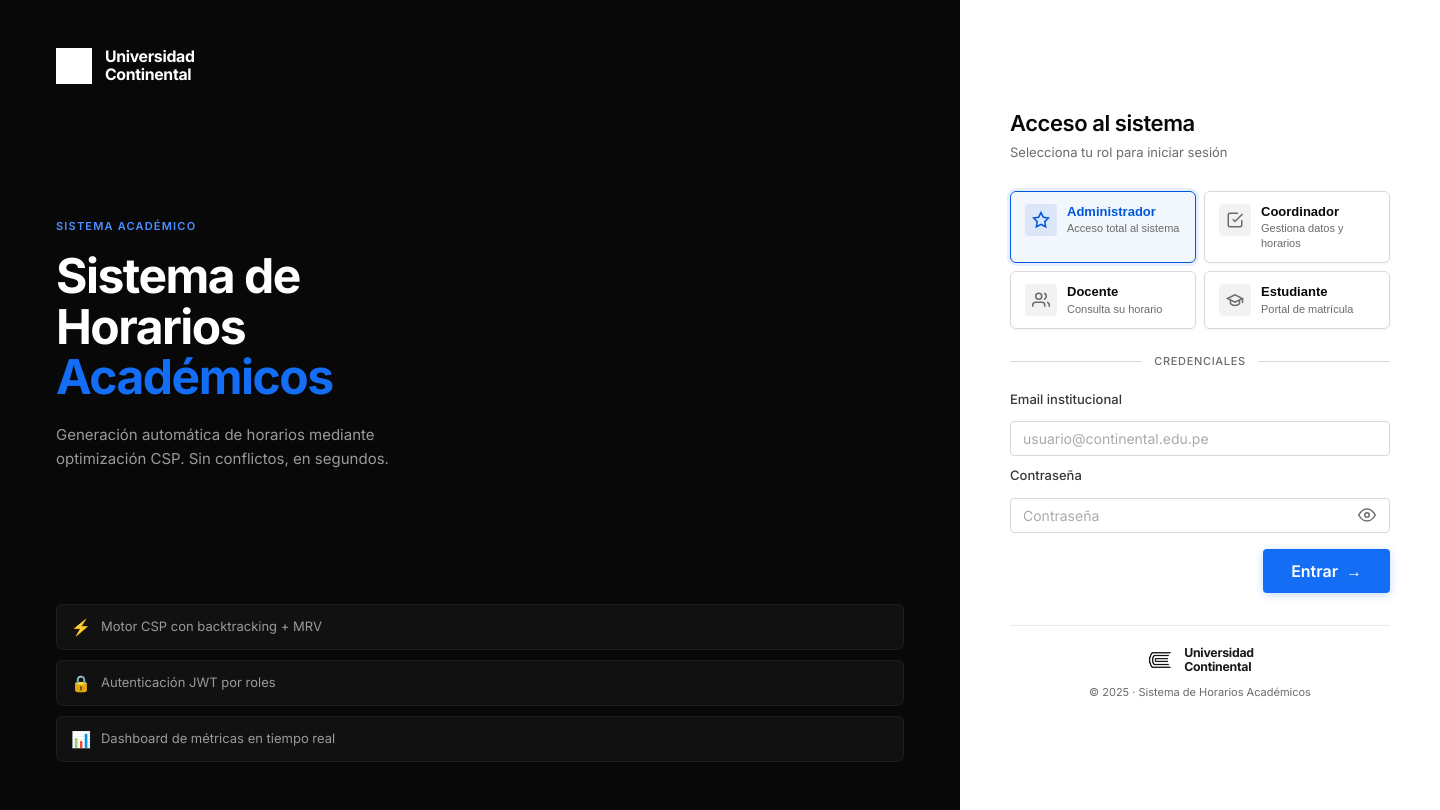
Scenario: LoginPage › shows a login error message when the request fails
In the field labelled "Email institucional": (1200, 438) [1010,421,1390,456], type "bad@uc.cl"
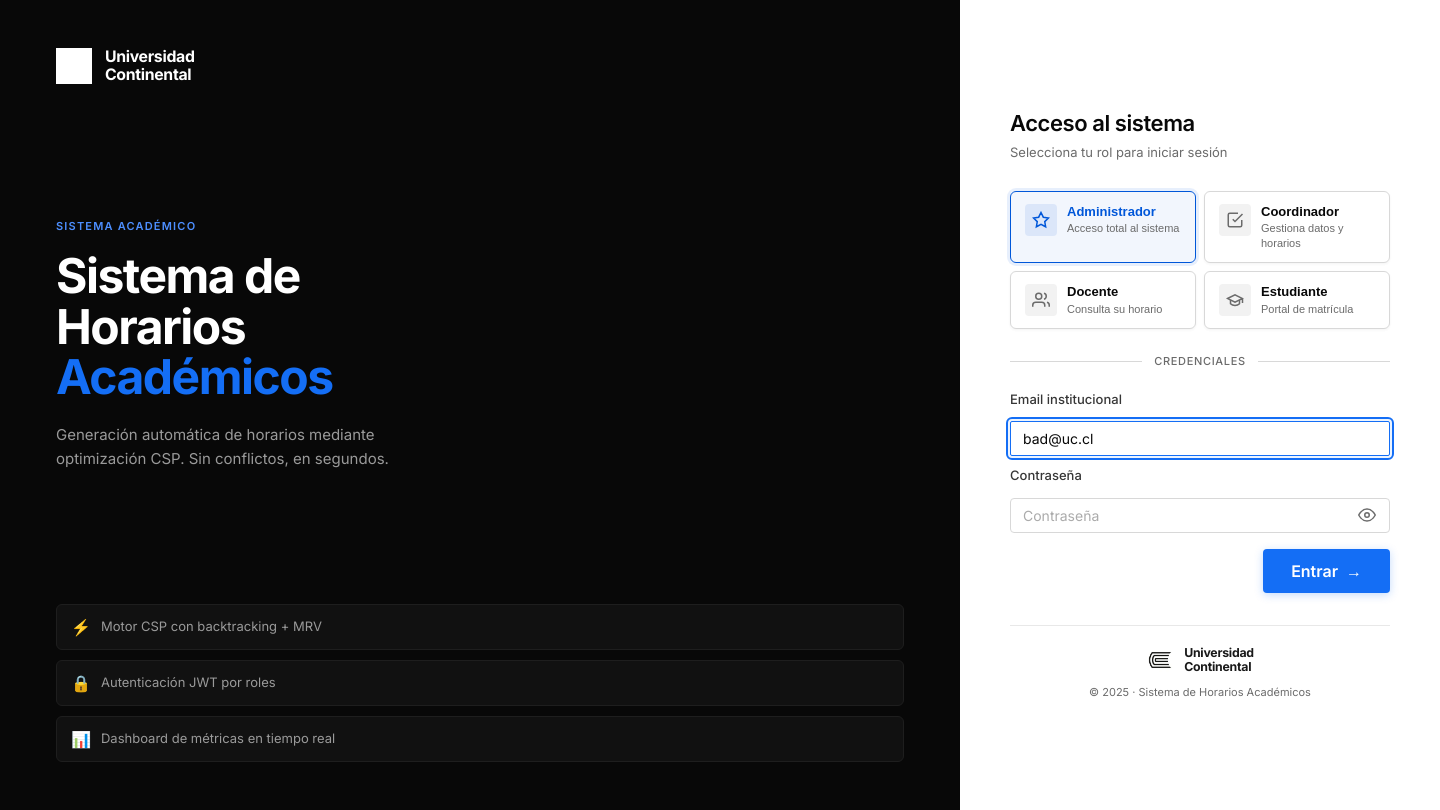
In the password field labelled "Contraseña": (1200, 515) [1010,498,1390,532], type "wrong"
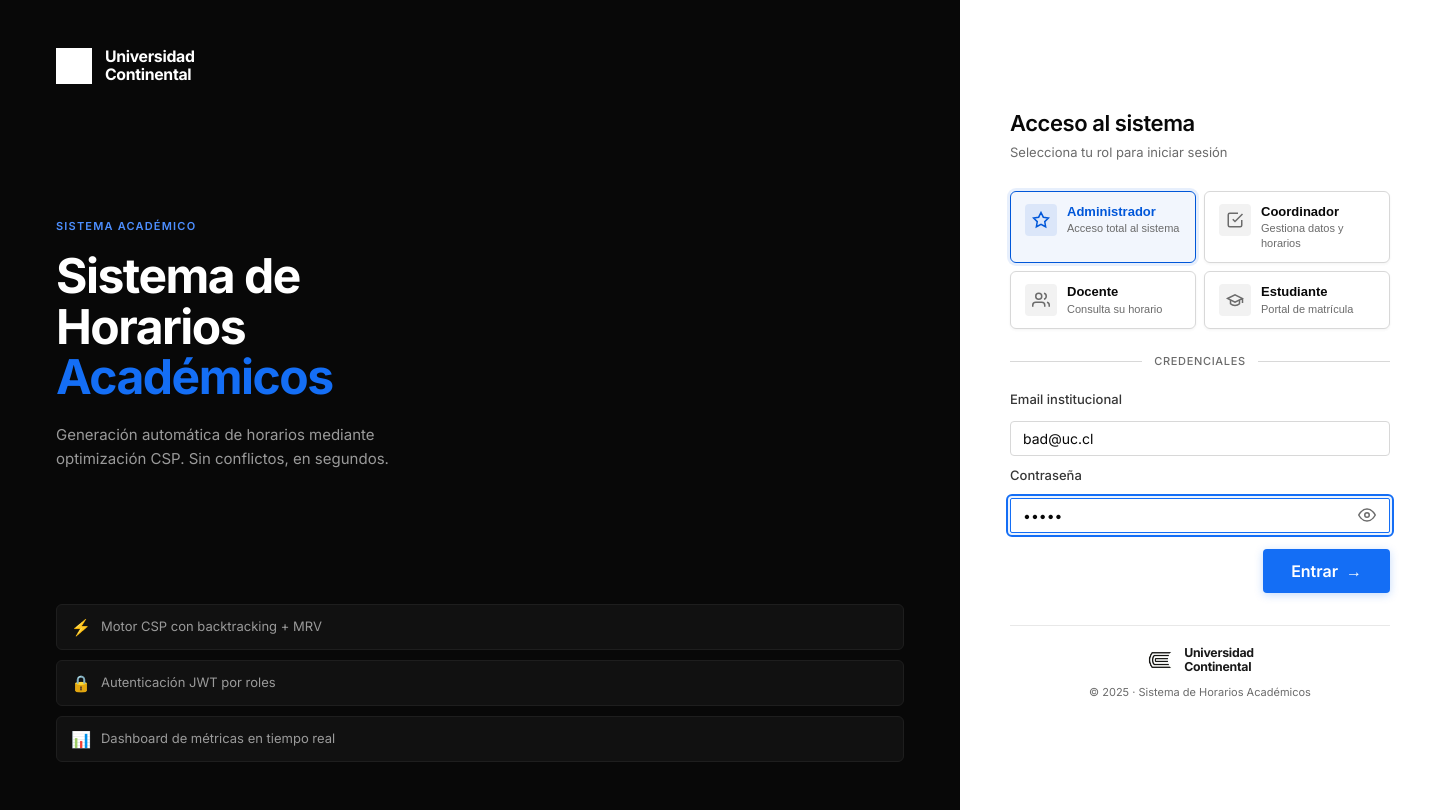
Click the button "Entrar →": click(1327, 570) [1263,548,1390,592]
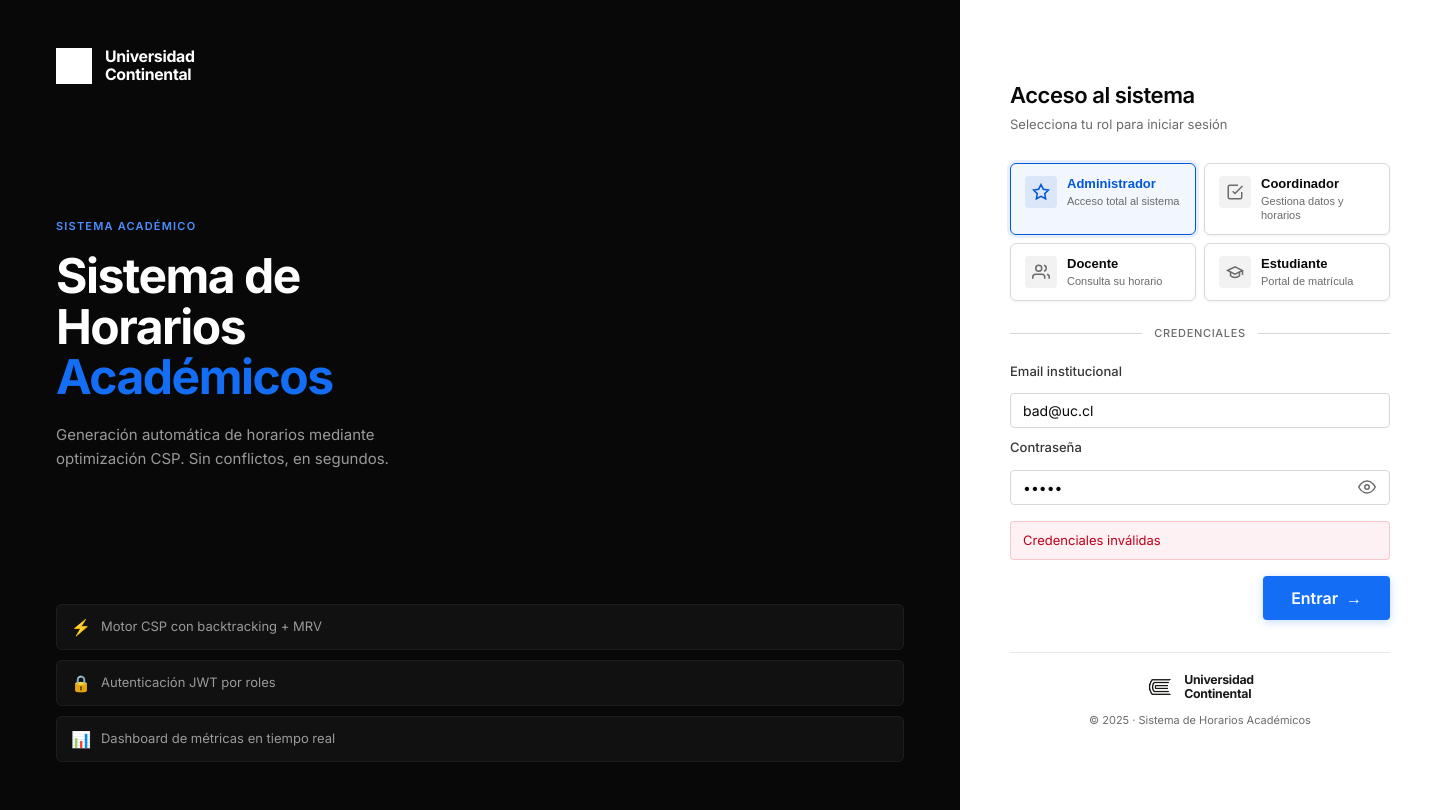
Expected: the text "Credenciales inválidas" is shown, [1010,521,1390,560]
